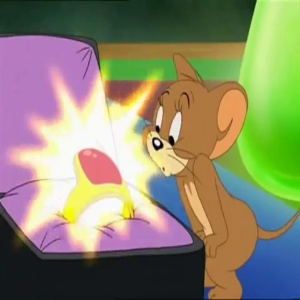Jerry: (144, 54, 248, 180)
